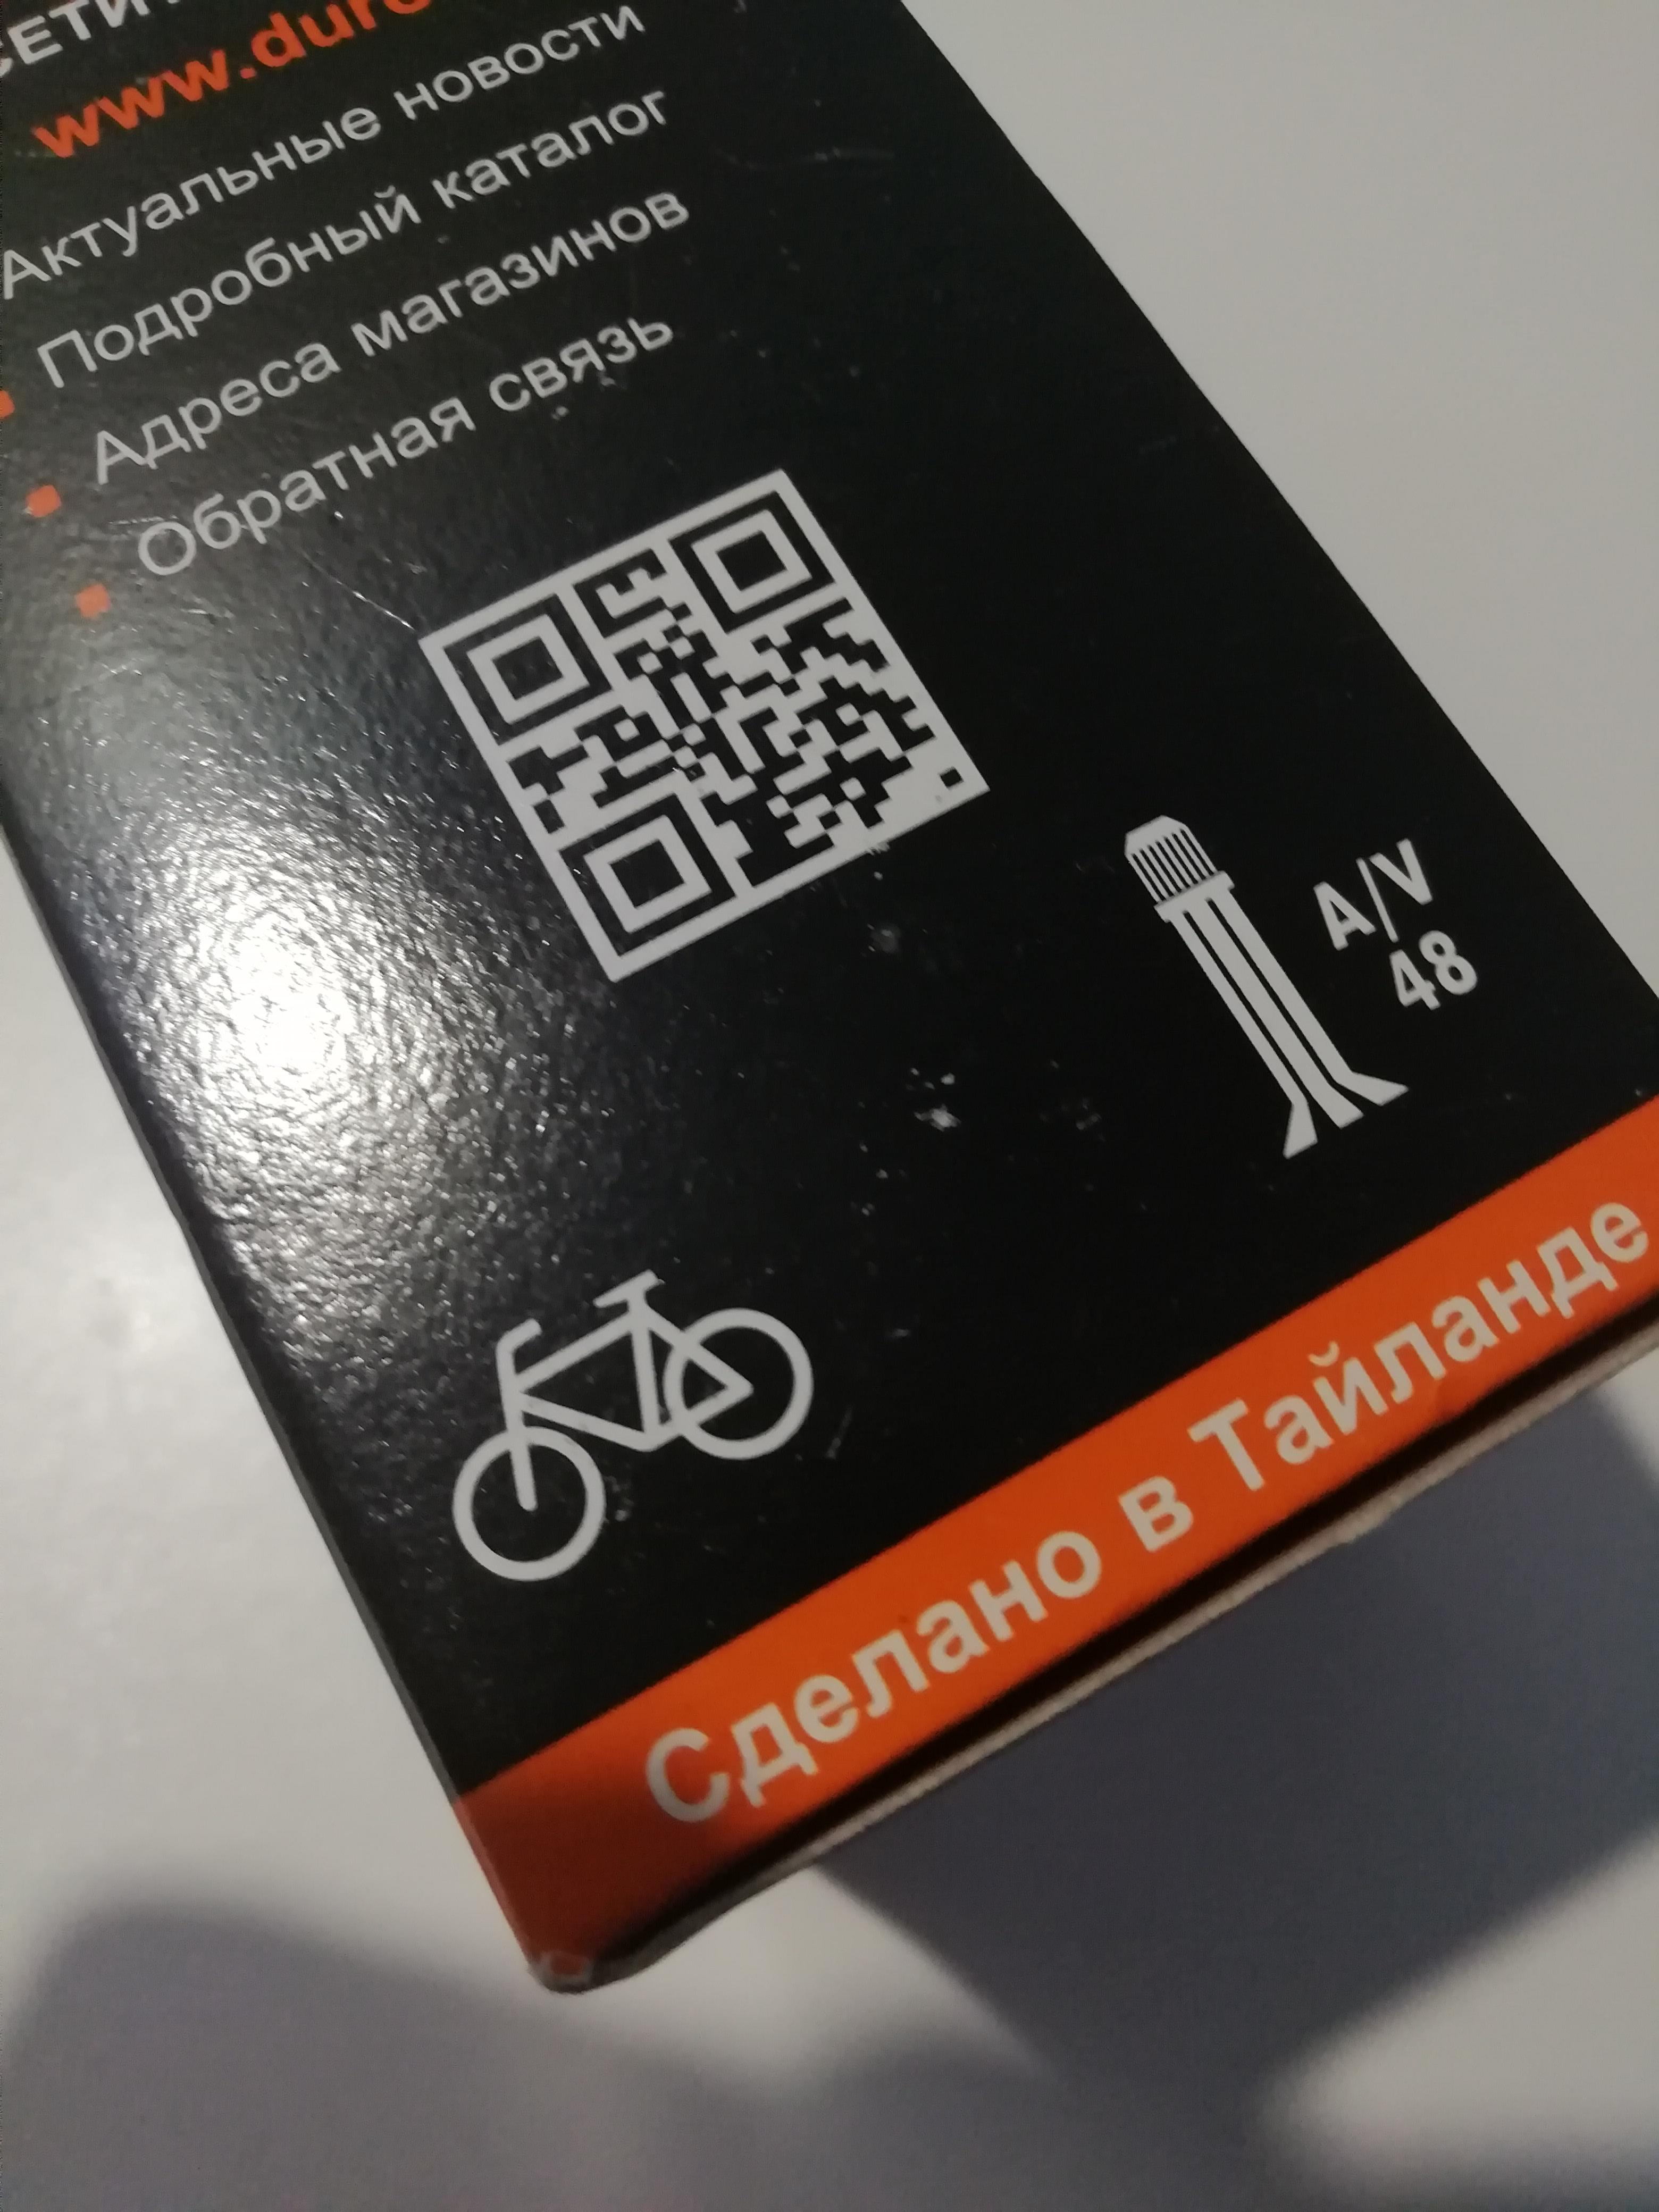qrcode: (443, 488, 965, 960)
